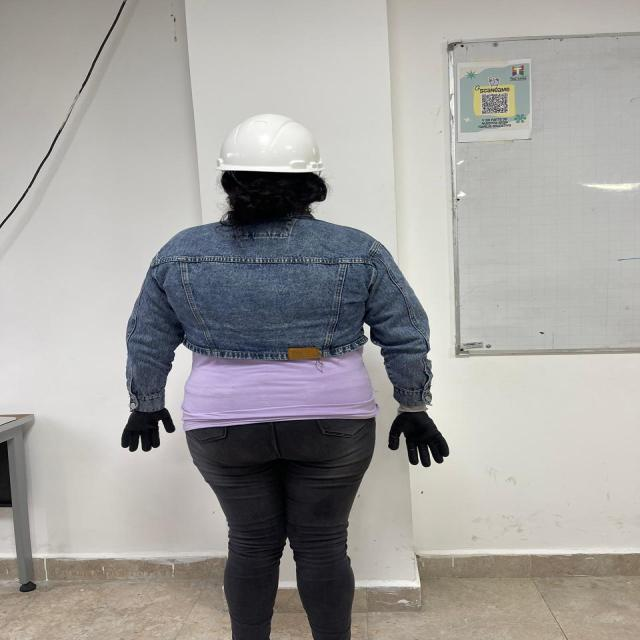gloves: (389, 409, 449, 467), (121, 408, 175, 452)
helmet: (215, 114, 323, 174)
